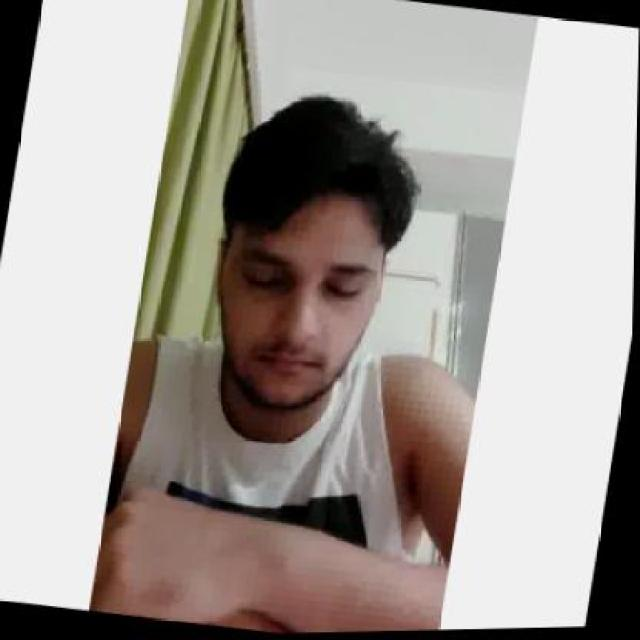inattentif: (192, 80, 418, 428)
